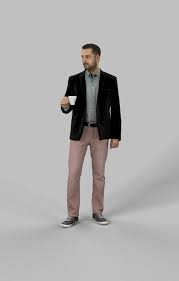middle_eastern_male: (81, 45, 101, 74)
